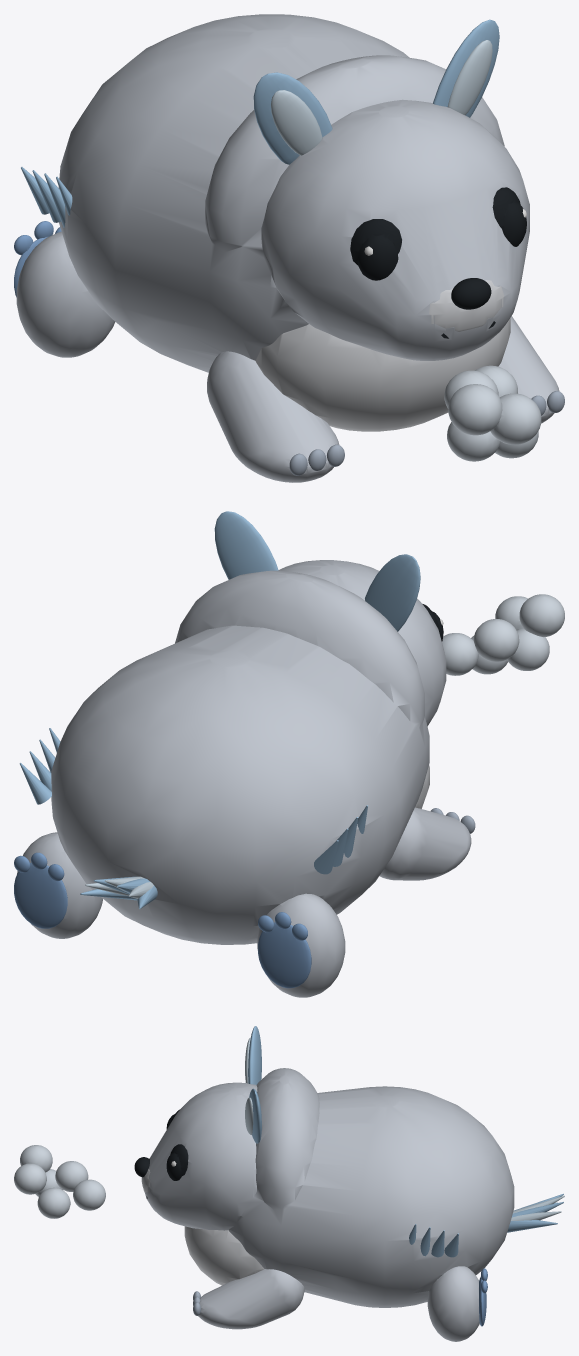
File: slushpup.glb
3 renders of one model, top to bottom at view 1: azimuth 30°, elevation 25°; view 2: azimuth 150°, elevation 25°; view 3: azimuth 270°, elevation 25°, orthographic. The views are drawn at different scales.
Parts seen in each view (by area): view 1: creature; view 2: creature; view 3: creature.
Part boxes in pixels (x1,y1,x2,y2): creature: (14, 14, 564, 482); creature: (14, 511, 564, 997); creature: (14, 1026, 564, 1341).
Size of the model in its own units: 1.02 by 1 by 2.1.
